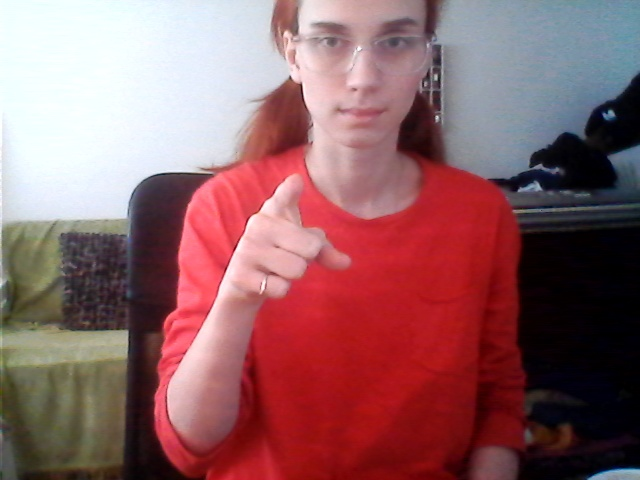ty: (219, 170, 367, 318)
